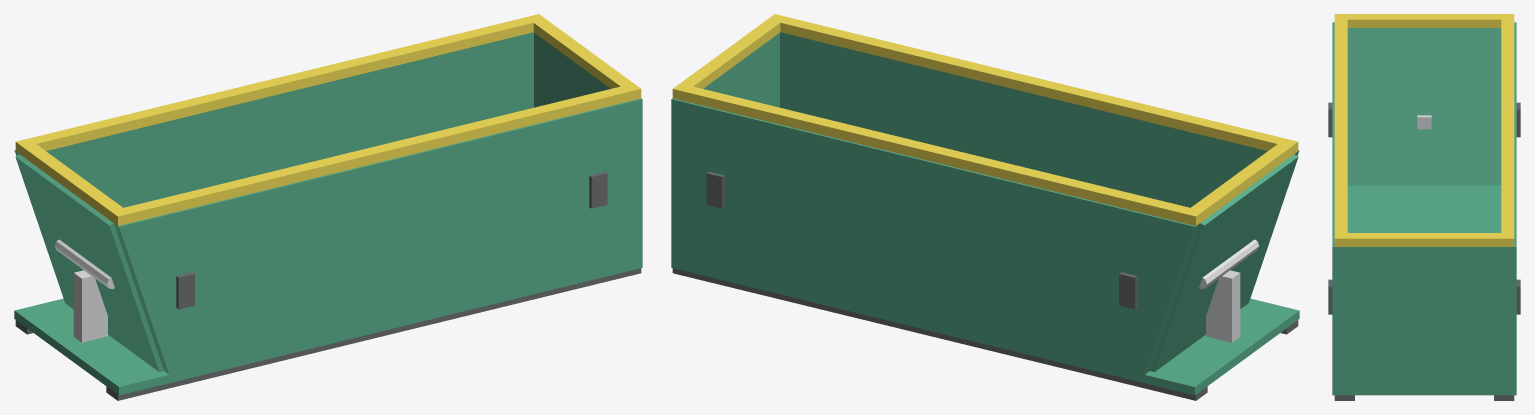
File: recycling-and-waste-transfer-yard-recycling-and-waste--201b4101__34894.glb
The picture shows the model from 3 angles, left to right: view 1: azimuth 30°, elevation 25°; view 2: azimuth 150°, elevation 25°; view 3: azimuth 270°, elevation 25°; orthographic projection. The views are drawn at different scales.
Parts seen in each view (by area): view 1: recycling-and-waste-transfer-yard-open-top-skip-large; view 2: recycling-and-waste-transfer-yard-open-top-skip-large; view 3: recycling-and-waste-transfer-yard-open-top-skip-large.
Part boxes in pixels (bbox=[...]): recycling-and-waste-transfer-yard-open-top-skip-large: bbox=[14, 14, 642, 400]; recycling-and-waste-transfer-yard-open-top-skip-large: bbox=[671, 14, 1299, 400]; recycling-and-waste-transfer-yard-open-top-skip-large: bbox=[1328, 14, 1520, 400].
Bounding box in the file's own units: 5.24 × 1.75 × 1.88.
